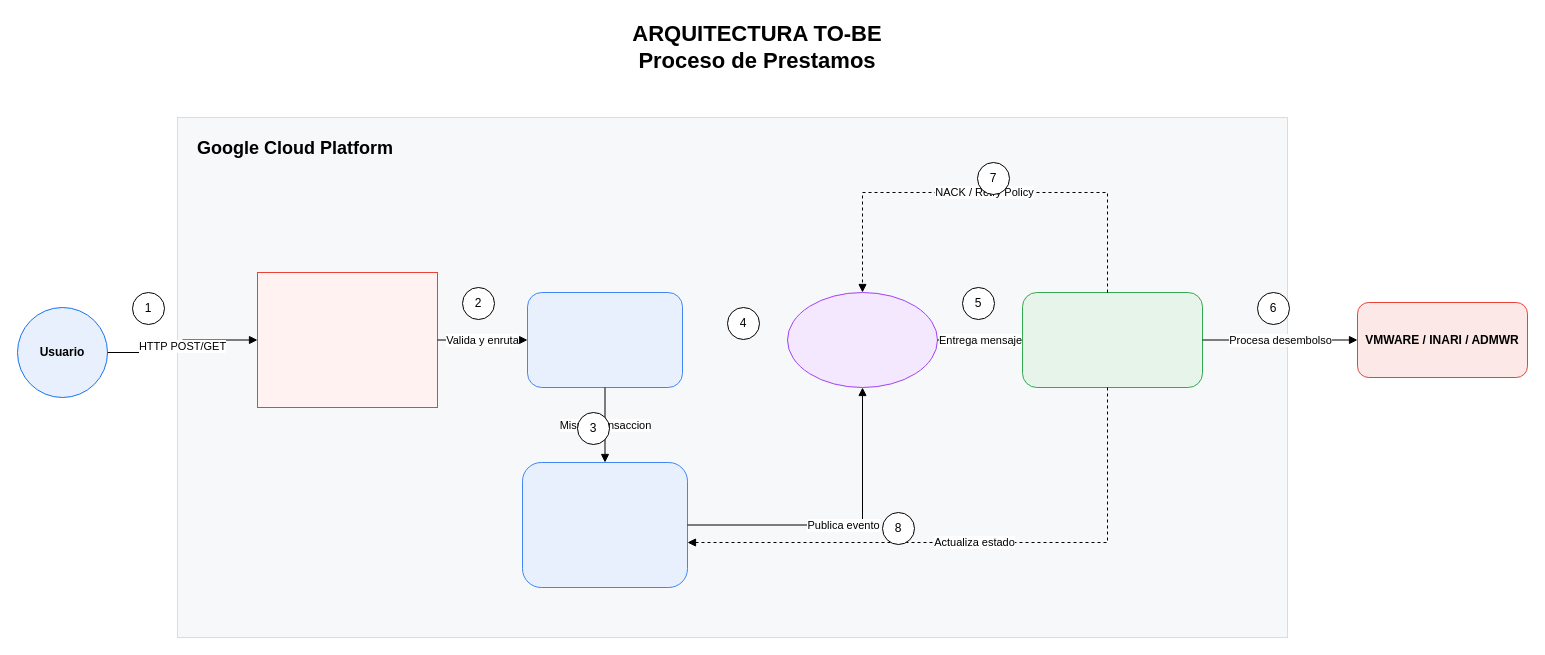
The diagram is 1545 pixels wide and 655 high, and some of its shapes have lost their labels. Here are the shapes that lost their labels. From the top down, the box of each, then its label:
(256, 272, 438, 408): Apache APISIX JWT | Rate Limit | Routing Correlation ID
(526, 292, 682, 388): Loan API Cloud Run
(786, 292, 938, 388): Pub/Sub Topic + Subscription
(1022, 292, 1202, 388): Loan Processor Worker Cloud Run
(522, 462, 688, 588): Cloud SQL Loan DB loan_operation idempotency outbox_event
